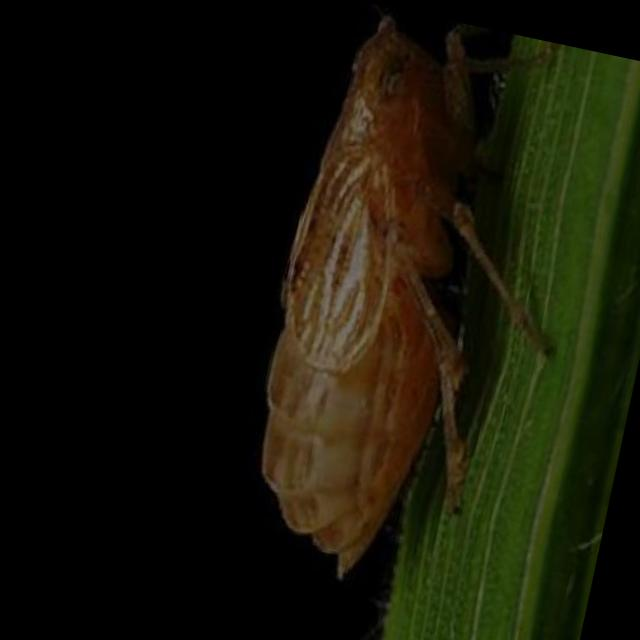brown-planthopper: (218, 11, 545, 604)
